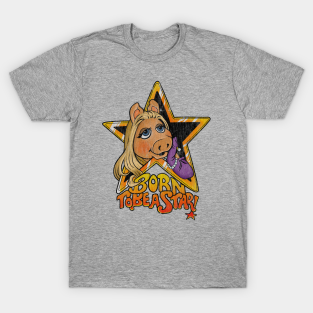design: (100, 79, 213, 222)
